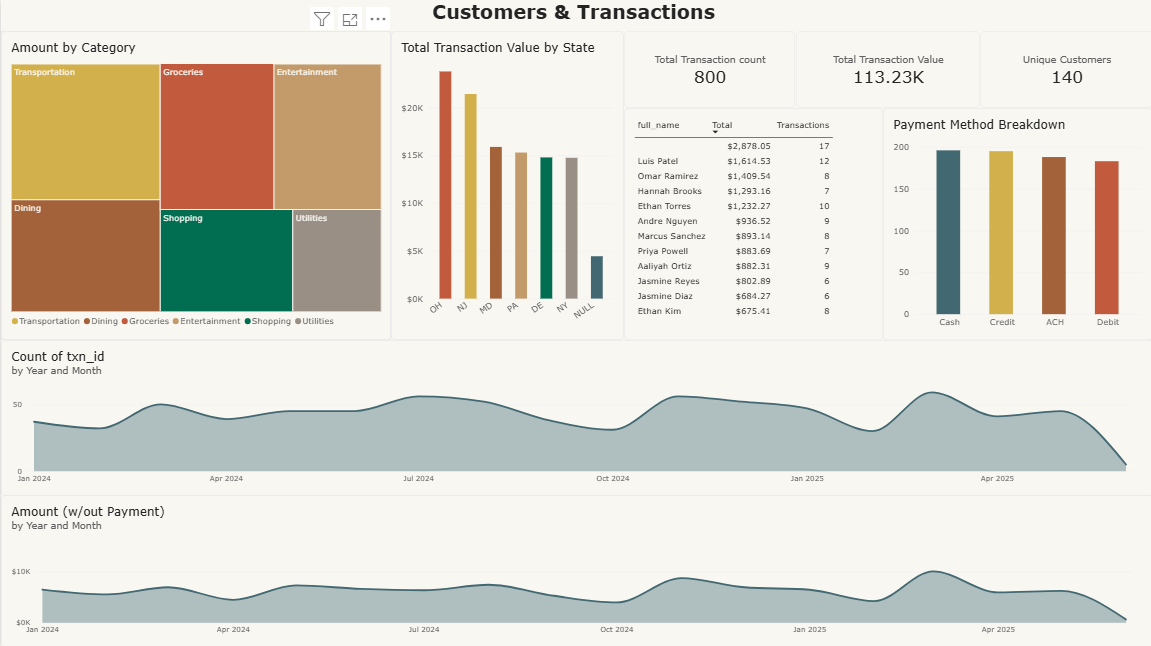

What the dashboard file says about the page in this screenshot:
{"tool":"powerbi","page":{"name":"Page 1","canvas":[1920,1080],"ordinal":0},"visuals":[{"type":"treemap","fields":{"Group":["clean transactions- Customers & Transactions.category"],"Values":["Sum(clean transactions- Customers & Transactions.amount)"]},"box":[0,129.8,694.5,499],"z":0},{"type":"tableEx","fields":{"Values":["clean customers- Customers & Transactions.full_name","Sum(clean transactions- Customers & Transactions.amount)","clean transactions- Customers & Transactions.txn_id"]},"box":[1082.6,258.2,388.1,370.6],"z":1000},{"type":"columnChart","title":"Average of Transaction by State","fields":{"Category":["clean customers- Customers & Transactions.state"],"Series":["clean customers- Customers & Transactions.state"],"Y":["Avg(clean transactions- Customers & Transactions.amount)"]},"box":[694.5,129.8,388.1,499],"z":2000},{"type":"pieChart","title":"Payment Method Breakdown","fields":{"Category":["clean transactions- Customers & Transactions.payment_method"],"Y":["CountNonNull(clean transactions- Customers & Transactions.txn_id)"]},"box":[1470.6,258.2,449.4,370.6],"z":3000},{"type":"stackedAreaChart","fields":{"Category":["clean transactions- Customers & Transactions.txn_date.Variation.Date Hierarchy.Year","clean transactions- Customers & Transactions.txn_date.Variation.Date Hierarchy.Month"],"Y":["CountNonNull(clean transactions- Customers & Transactions.txn_id)","Sum(clean transactions- Customers & Transactions.amount)"]},"box":[0,628.8,1920,450.8],"z":4000},{"type":"cardVisual","title":"Unique Customers","fields":{"Data":["Count(clean customers- Customers & Transactions.customer_id)"]},"box":[1674.9,129.8,245.1,128.4],"z":5000},{"type":"cardVisual","fields":{"Data":["Sum(clean transactions- Customers & Transactions.amount)"]},"box":[1368.5,129.8,306.4,128.4],"z":5001},{"type":"cardVisual","fields":{"Data":["CountNonNull(clean transactions- Customers & Transactions.txn_id)"]},"box":[1082.6,129.8,286,128.4],"z":5002}]}

Visuals, with their boxes in screenshot pixels (x1, y1, x2, y2), scaled from the page's 1920x1080 canvas onto the 1151x646 screenshot:
treemap - clean transactions- Customers & Transactions.category x Sum(clean transactions- Customers & Transactions.amount): 0,78,416,376
tableEx - clean customers- Customers & Transactions.full_name x Sum(clean transactions- Customers & Transactions.amount): 649,154,882,376
"Average of Transaction by State" columnChart: 416,78,649,376
"Payment Method Breakdown" pieChart: 882,154,1150,376
stackedAreaChart - clean transactions- Customers & Transactions.txn_date.Variation.Date Hierarchy.Year x clean transactions- Customers & Transactions.txn_date.Variation.Date Hierarchy.Month: 0,376,1150,645
"Unique Customers" cardVisual: 1004,78,1150,154
cardVisual - Sum(clean transactions- Customers & Transactions.amount): 820,78,1004,154
cardVisual - CountNonNull(clean transactions- Customers & Transactions.txn_id): 649,78,820,154
